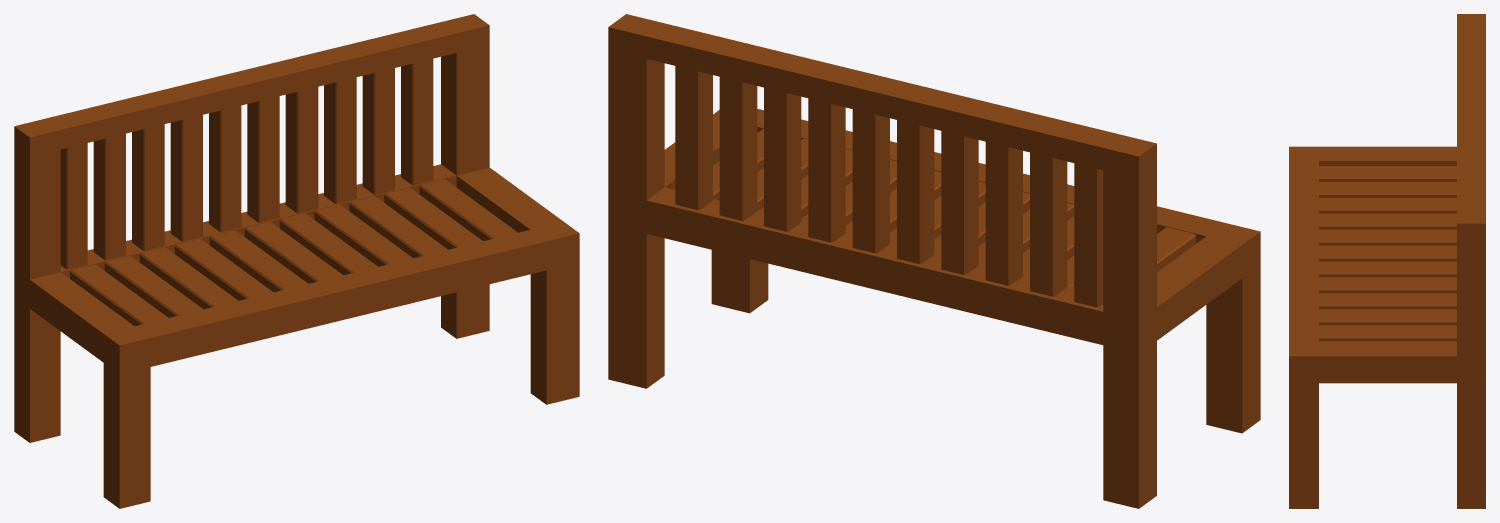
Rendered from Woodbench.fbx.
3 renders of one model, left to right at view 1: azimuth 30°, elevation 25°; view 2: azimuth 150°, elevation 25°; view 3: azimuth 270°, elevation 25°, orthographic. The views are drawn at different scales.
Visible parts, largest first — view 1: Cube; view 2: Cube; view 3: Cube.
Boxes of the visible parts, x1,y1,x2,y2 form: Cube: [14, 14, 579, 508]; Cube: [608, 14, 1260, 508]; Cube: [1289, 14, 1485, 508].
Size of the model in its own units: 399 by 253 by 158.
